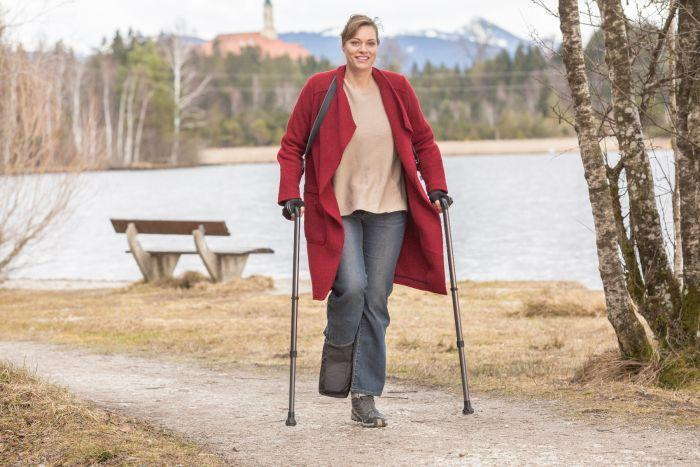crutches: (277, 15, 476, 428)
